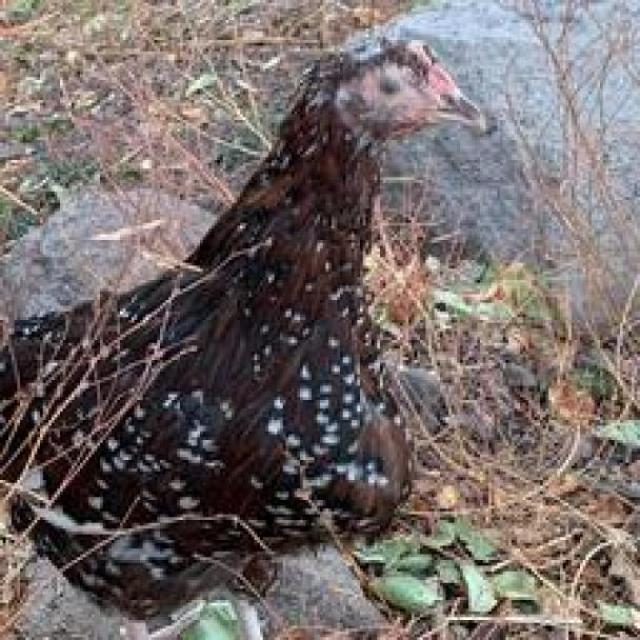Chicken: (59, 16, 522, 618)
